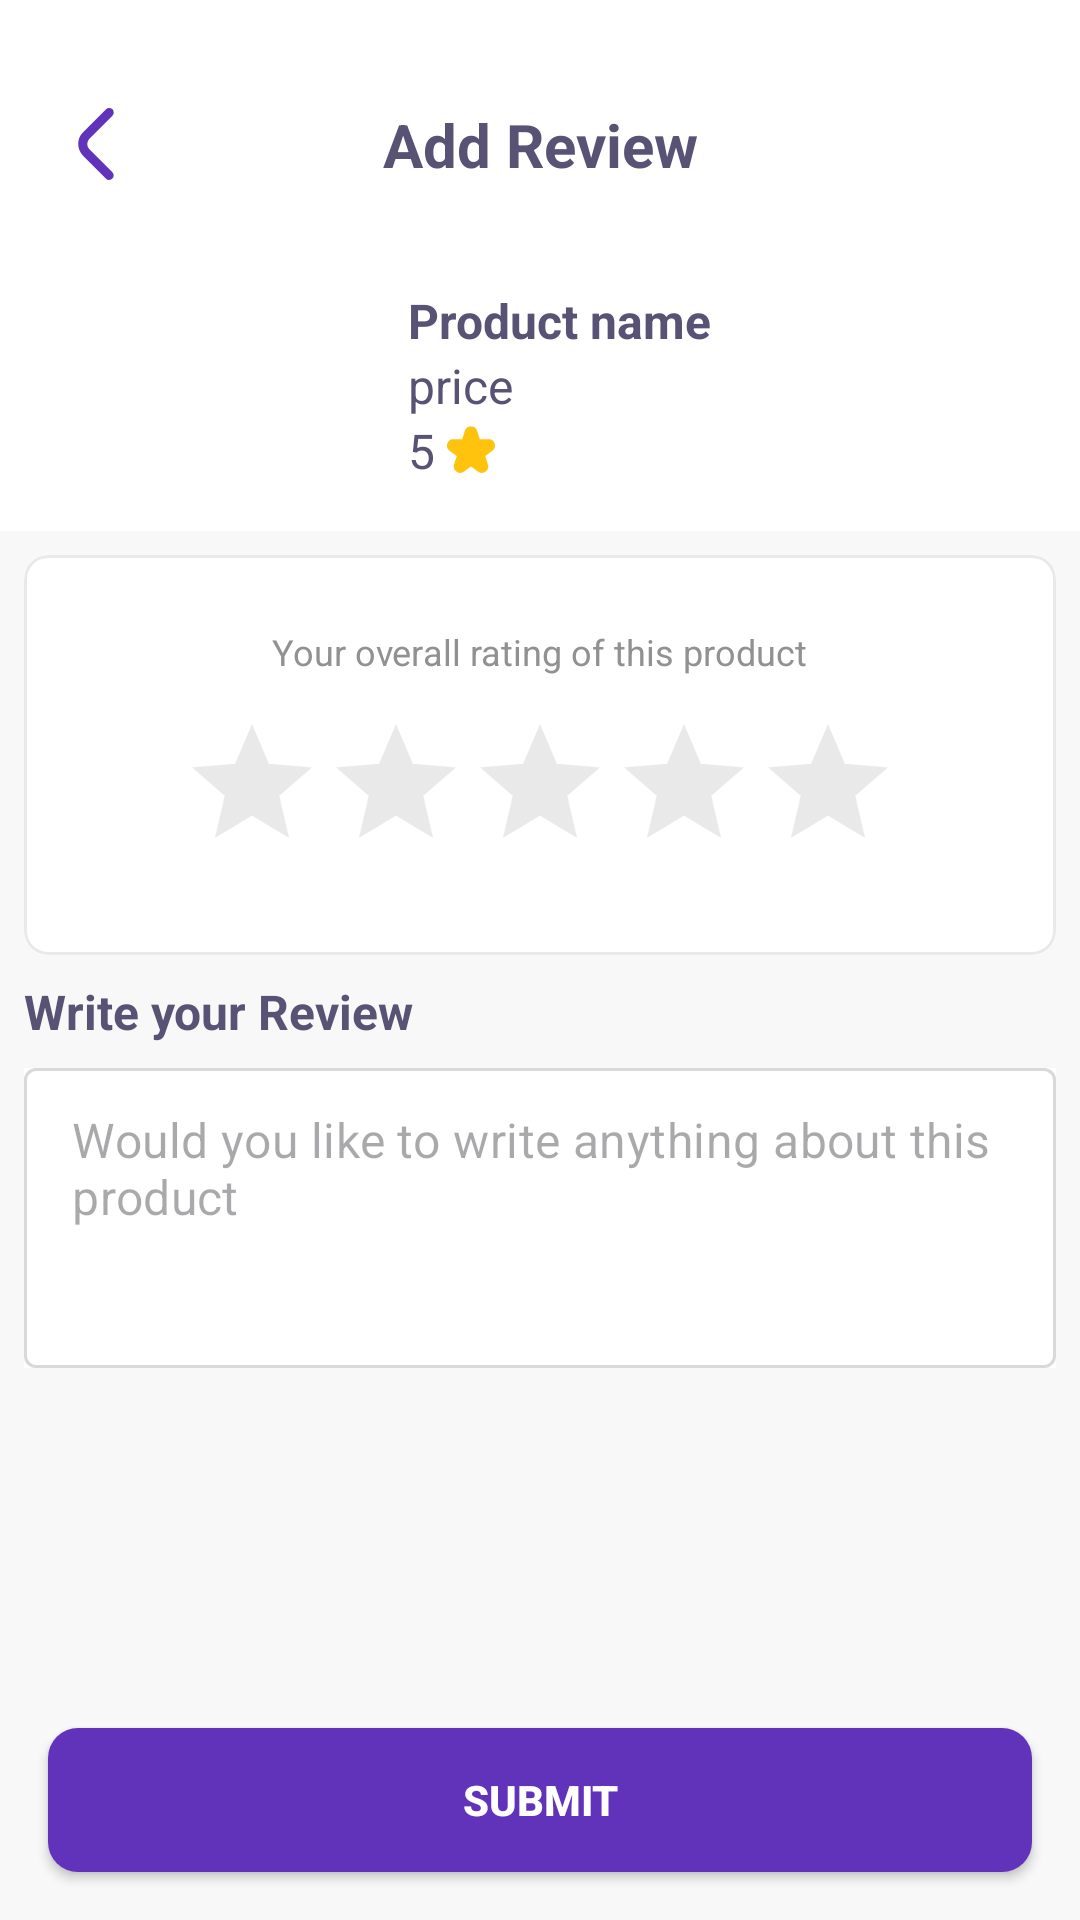

Where icons sit on this 1080px×1920px app screen, as (x1, y1, x2, y2):
angle left: (78, 108, 114, 180)
